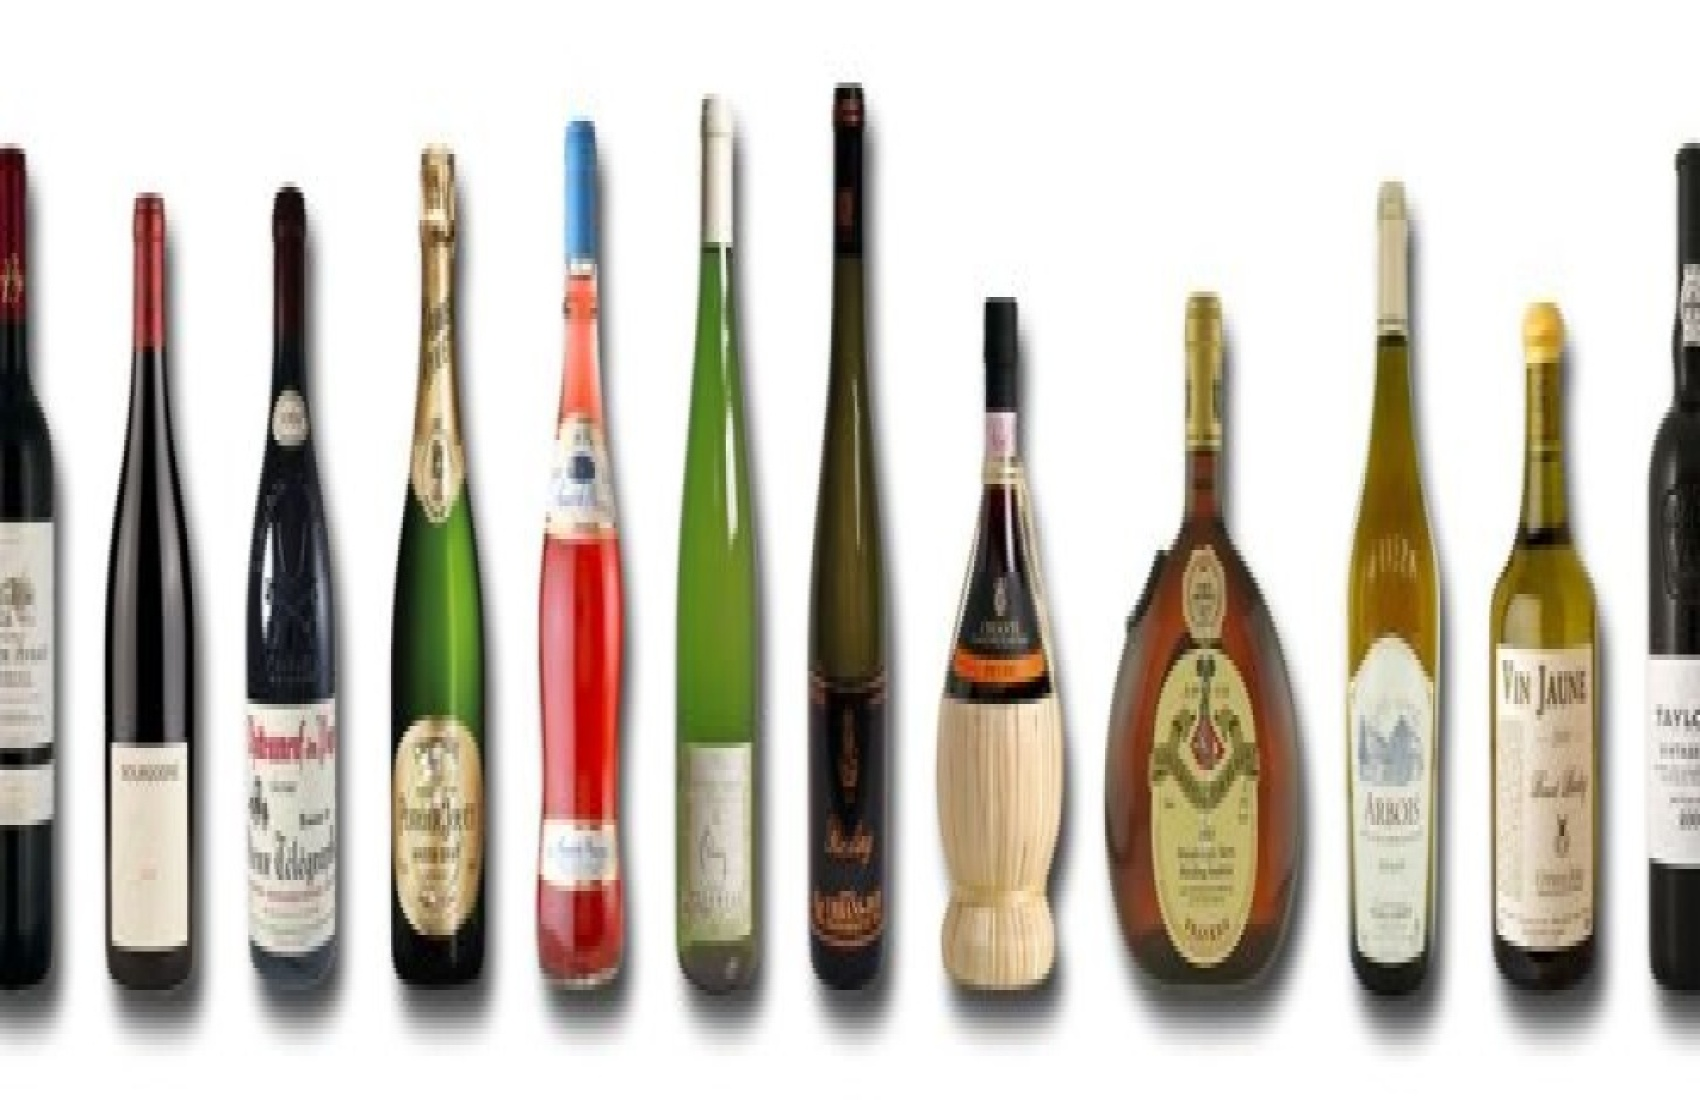wine: (107, 159, 201, 992), (808, 130, 888, 965), (1358, 170, 1439, 1005), (247, 137, 327, 972), (400, 146, 480, 981), (680, 137, 760, 972)
